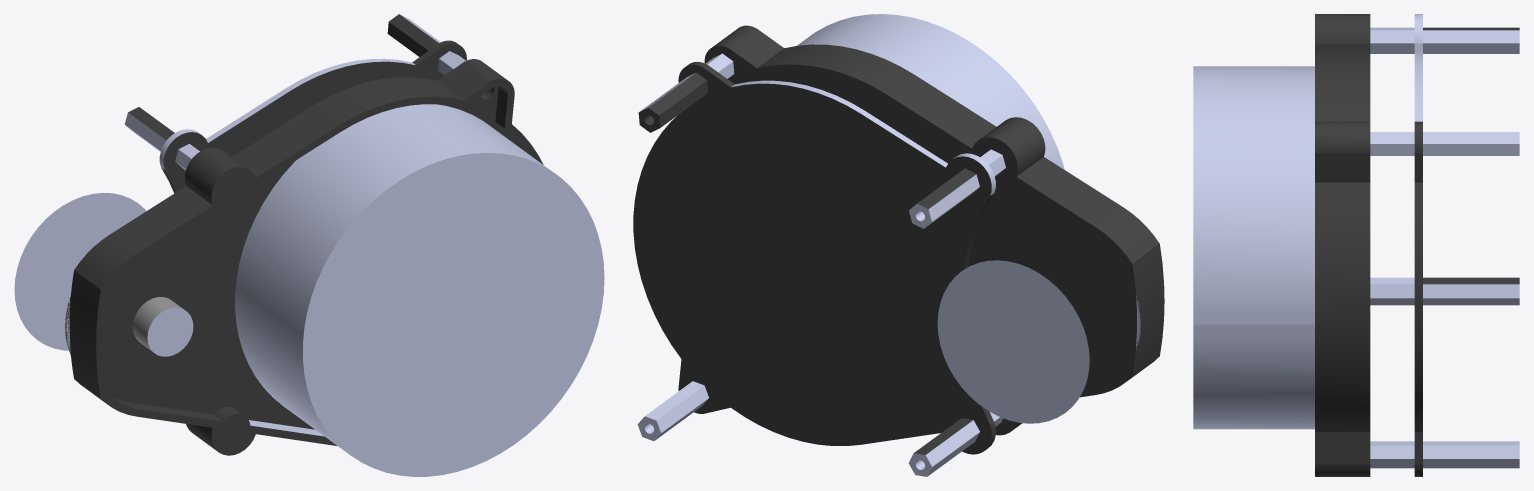
File: ydlidar_x4.dae
The picture shows the model from 3 angles, left to right: view 1: azimuth 30°, elevation 25°; view 2: azimuth 150°, elevation 25°; view 3: azimuth 270°, elevation 25°; orthographic projection. The views are drawn at different scales.
Visible parts, largest first — view 1: empty_77, empty_76, empty_56, empty_80, empty_54, empty_87, empty_48, empty_53, empty_49, empty_51, empty_2, empty_50 (+4 smaller); view 2: empty_88, empty_31, empty_80, empty_76, empty_48, empty_49, empty_51, empty_53, empty_50, empty_52, empty_47, empty_118 (+8 smaller); view 3: empty_76, empty_44, empty_48, empty_96, empty_43, empty_46, empty_45, empty_50, empty_116, empty_107, empty_125, empty_132 (+19 smaller).
Part boxes in pixels (x1,y1,x2,y2): empty_77: (303,152,604,476); empty_76: (235,104,549,453); empty_56: (103,86,518,429); empty_80: (14,192,146,350); empty_54: (96,78,543,455); empty_87: (163,43,466,191); empty_48: (311,77,463,125); empty_53: (69,270,100,397); empty_49: (232,106,337,177); empty_51: (110,186,212,253); empty_2: (147,307,193,356); empty_50: (185,147,248,204); empty_88: (633,64,991,454); empty_31: (704,45,1141,435); empty_80: (937,260,1089,423); empty_76: (797,14,1064,169); empty_48: (757,44,914,94); empty_49: (887,75,996,148); empty_51: (1017,157,1122,226); empty_53: (1132,244,1164,375); empty_50: (979,117,1045,176); empty_52: (1096,207,1159,263); empty_47: (729,28,783,67); empty_118: (925,420,979,466); empty_76: (1193,66,1314,429); empty_44: (1315,182,1370,431); empty_48: (1315,52,1370,121); empty_96: (1414,182,1422,431); empty_43: (1315,432,1370,464); empty_46: (1315,122,1370,153); empty_45: (1315,153,1370,182); empty_50: (1315,14,1370,43); empty_116: (1423,284,1519,298); empty_107: (1423,30,1519,43); empty_125: (1423,445,1519,458); empty_132: (1423,144,1519,155).
Size of the model in its own units: 101 by 71 by 59.
